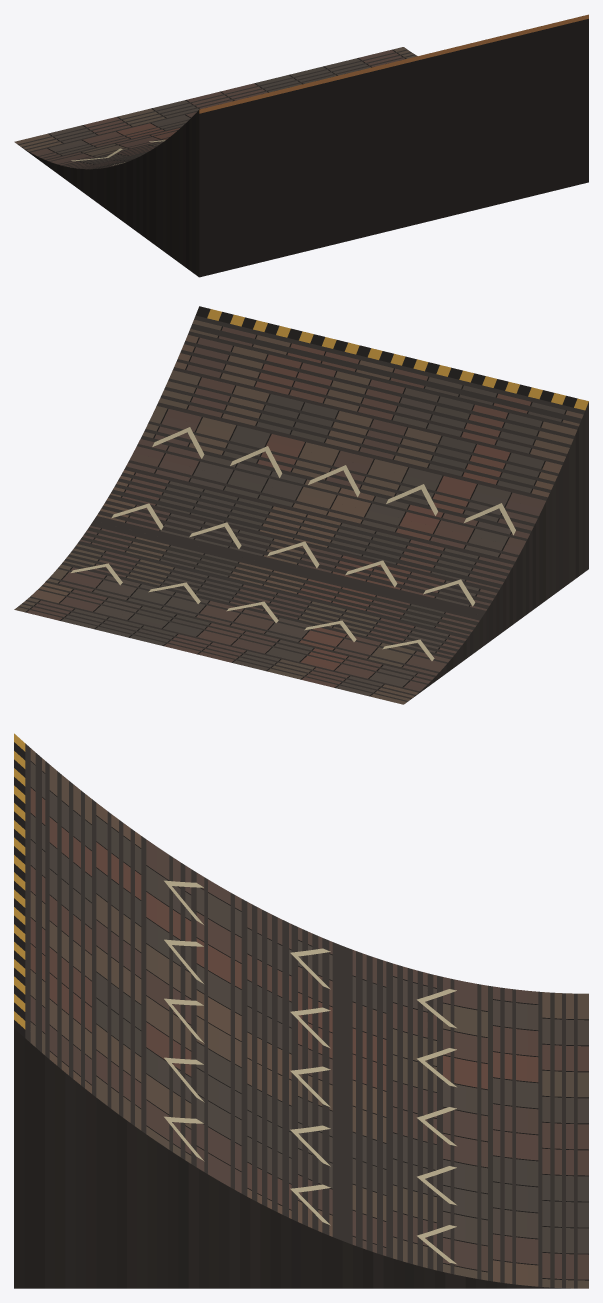
The model's file is plate_kicker_28x14x34.glb.
The picture shows the model from 3 angles, top to bottom: view 1: azimuth 30°, elevation 25°; view 2: azimuth 150°, elevation 25°; view 3: azimuth 270°, elevation 25°; orthographic projection. The views are drawn at different scales.
Visible parts, largest first — view 1: plate_kicker_28x14x34, plate_kicker_28x14x34-col; view 2: plate_kicker_28x14x34, plate_kicker_28x14x34-col; view 3: plate_kicker_28x14x34, plate_kicker_28x14x34-col.
Part boxes in pixels (<box>): plate_kicker_28x14x34: <box>14,14,588,277</box>; plate_kicker_28x14x34-col: <box>18,49,415,169</box>; plate_kicker_28x14x34: <box>14,306,588,704</box>; plate_kicker_28x14x34-col: <box>18,315,584,701</box>; plate_kicker_28x14x34: <box>14,733,588,1288</box>; plate_kicker_28x14x34-col: <box>25,743,577,1288</box>.
Size of the model in its own units: 34 by 14 by 28.
